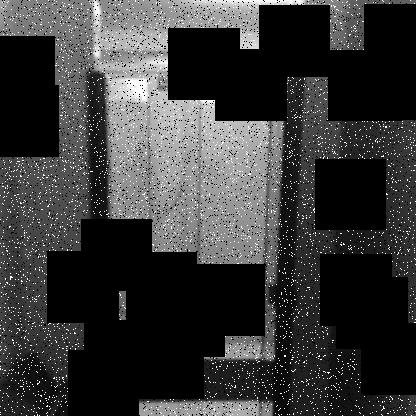Porte: (81, 34, 312, 416)
